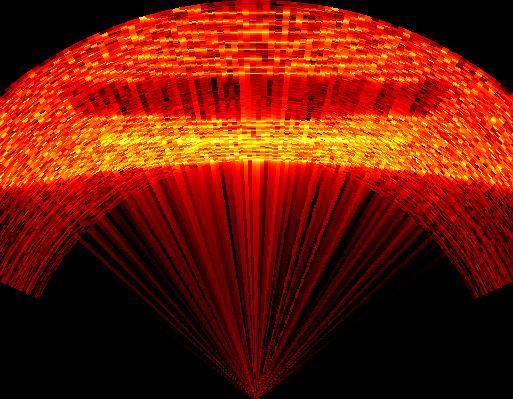pipe: (62, 80, 456, 118)
